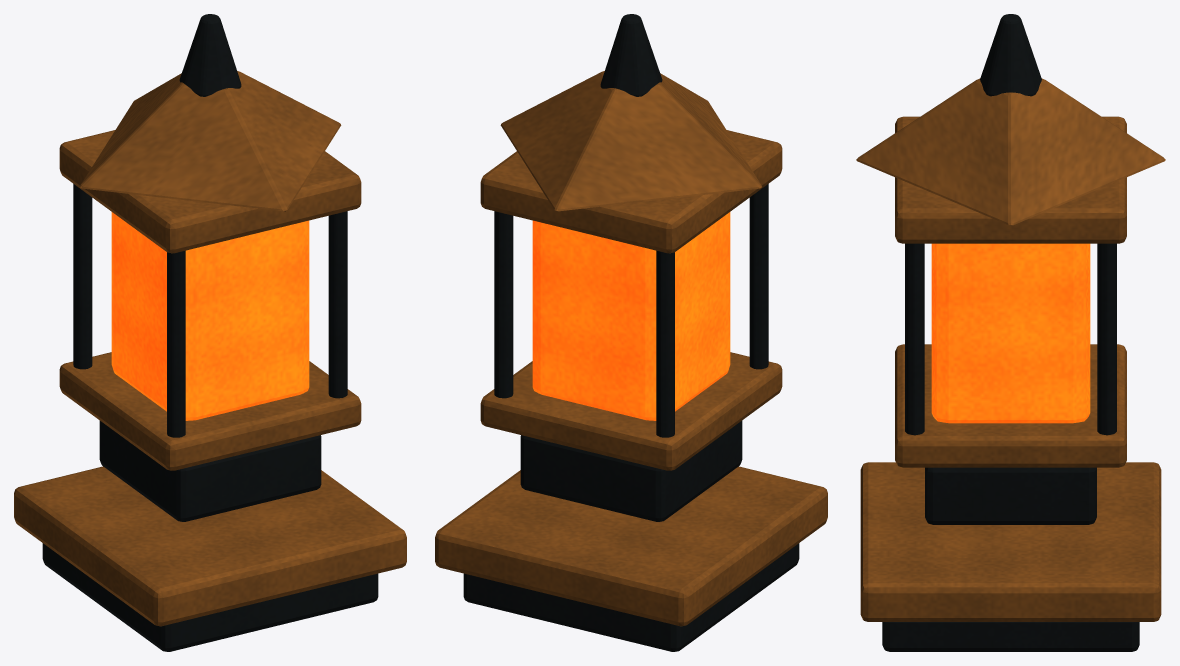
File: lantern_amber.fbx
3 renders of one model, left to right at view 1: azimuth 30°, elevation 25°; view 2: azimuth 150°, elevation 25°; view 3: azimuth 270°, elevation 25°, orthographic. The views are drawn at different scales.
Visible parts, largest first — view 1: lantern_amber_lamp; view 2: lantern_amber_lamp; view 3: lantern_amber_lamp.
Boxes of the visible parts, <box> form: lantern_amber_lamp: <box>14,14,406,651</box>; lantern_amber_lamp: <box>435,14,827,651</box>; lantern_amber_lamp: <box>856,14,1165,651</box>.
Bounding box in the file's own units: 36.06 × 75 × 36.06.
3 materials, 3 textured.
